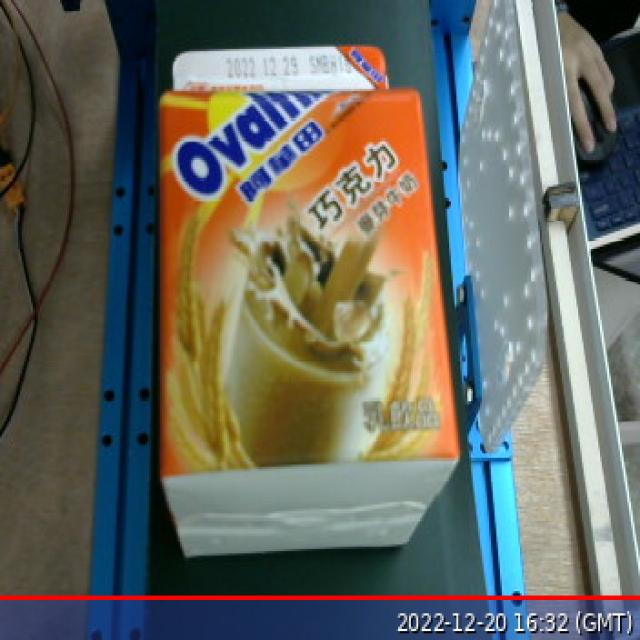non_white_jug: (143, 25, 475, 549)
